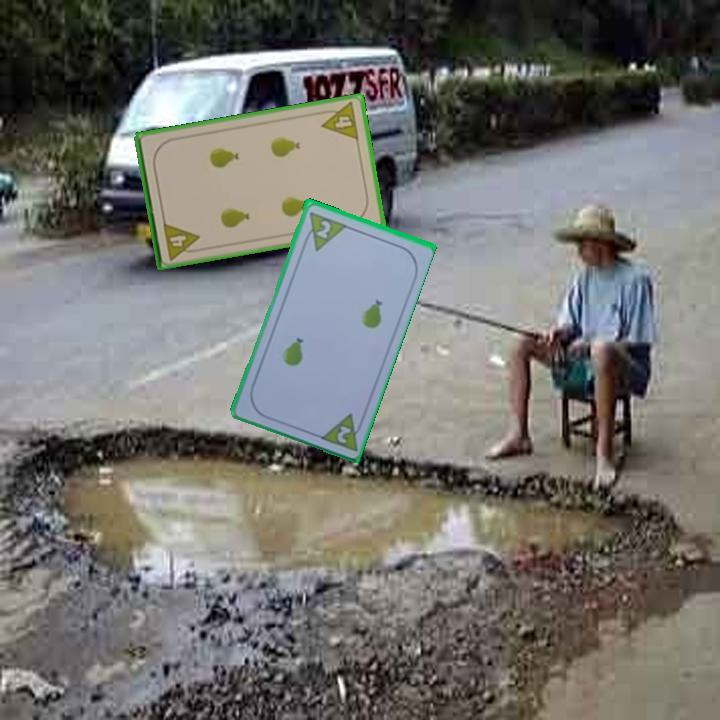2p: (315, 408, 367, 454), (299, 207, 348, 253)
4p: (316, 99, 362, 143), (159, 219, 204, 263)
